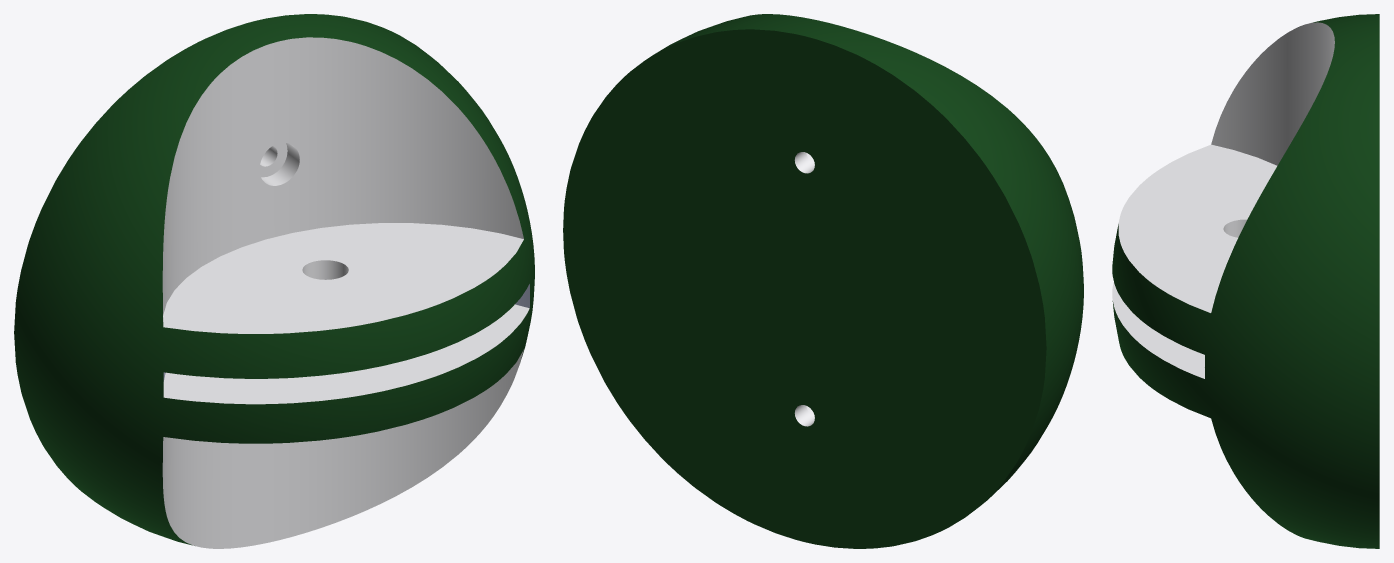
Rendered from Practice48_1.glb.
3 views of the same model, side by side, from view 1: azimuth 30°, elevation 25°; view 2: azimuth 150°, elevation 25°; view 3: azimuth 270°, elevation 25° (orthographic). The views are drawn at different scales.
Visible parts, largest first — view 1: Part, Part 2; view 2: Part 2, Part; view 3: Part 2, Part.
Boxes of the visible parts, x1=… form: Part: x1=162, y1=37, x2=529, y2=548; Part 2: x1=14, y1=14, x2=534, y2=545; Part 2: x1=563, y1=14, x2=1083, y2=548; Part: x1=794, y1=152, x2=814, y2=426; Part 2: x1=1112, y1=14, x2=1379, y2=548; Part: x1=1112, y1=22, x2=1334, y2=378.
Bounding box in the file's own units: 1.52 × 1.52 × 0.7604.
